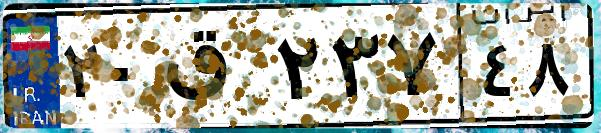0: (110, 28, 158, 98)
2: (270, 28, 330, 110), (57, 26, 110, 100)
3: (330, 28, 385, 110)
4: (475, 38, 525, 113)
7: (385, 28, 445, 110)
8: (525, 38, 570, 115)
ق: (158, 20, 270, 120)
